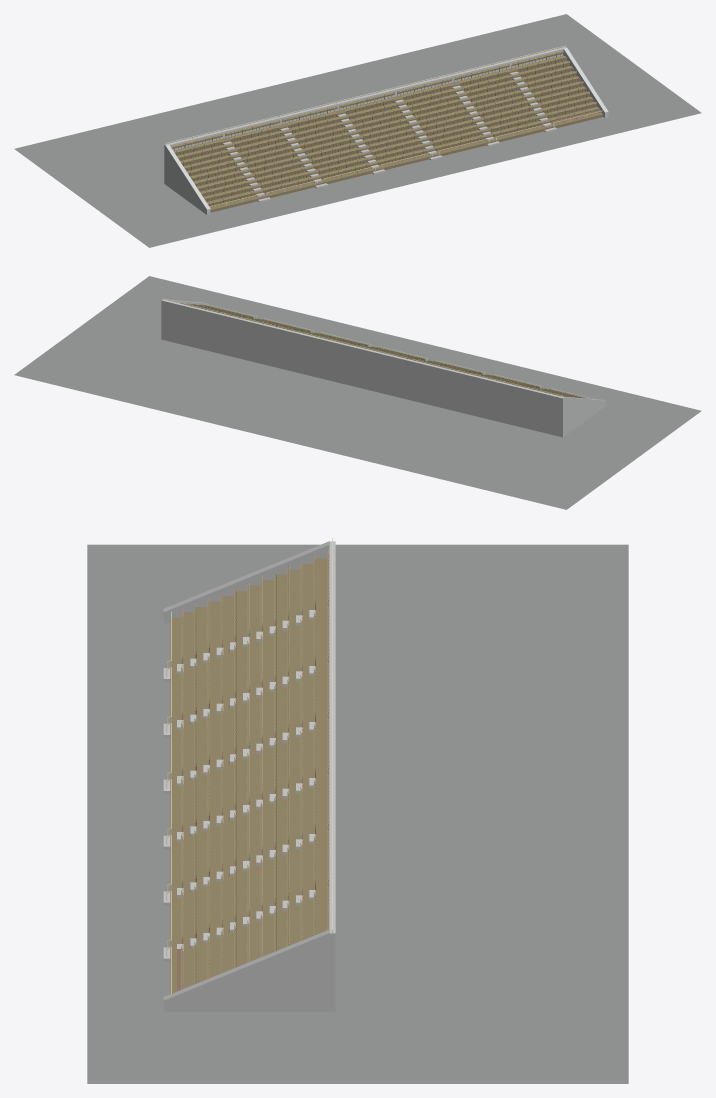
File: Grandstand.fbx
The picture shows the model from 3 angles, top to bottom: view 1: azimuth 30°, elevation 25°; view 2: azimuth 150°, elevation 25°; view 3: azimuth 270°, elevation 25°; orthographic projection. The views are drawn at different scales.
Parts seen in each view (by area): view 1: Ground, Rows, Bucket Seats, Steps, Stand_Back._Left, Stand_Back_ Right, Stand SIde_Left, Top SIde_Right., Top Rails, Top side_Left, Front Rail; view 2: Ground, Stand_Back._Left, Stand_Back_ Right, Bucket Seats, Stand SIde_Left, Top Rails, Front Rail; view 3: Ground, Rows, Bucket Seats, Stand SIde_Right, Steps, Top side_Left, Top SIde_Right., Stand_Back_ Right, Stand_Back._Left.
Boxes of the visible parts, x1=… form: Ground: x1=14, y1=14, x2=701, y2=247; Rows: x1=173, y1=55, x2=603, y2=212; Bucket Seats: x1=171, y1=50, x2=598, y2=206; Steps: x1=222, y1=71, x2=551, y2=196; Stand_Back._Left: x1=164, y1=88, x2=395, y2=184; Stand_Back_ Right: x1=394, y1=46, x2=566, y2=96; Stand SIde_Left: x1=165, y1=150, x2=205, y2=213; Top SIde_Right.: x1=563, y1=48, x2=606, y2=113; Top Rails: x1=165, y1=45, x2=565, y2=144; Top side_Left: x1=165, y1=145, x2=208, y2=210; Front Rail: x1=209, y1=110, x2=602, y2=206; Ground: x1=14, y1=276, x2=701, y2=509; Stand_Back._Left: x1=333, y1=341, x2=564, y2=437; Stand_Back_ Right: x1=161, y1=299, x2=334, y2=381; Bucket Seats: x1=180, y1=303, x2=587, y2=398; Stand SIde_Left: x1=564, y1=401, x2=604, y2=435; Top Rails: x1=163, y1=298, x2=563, y2=397; Front Rail: x1=206, y1=304, x2=595, y2=399; Ground: x1=87, y1=544, x2=628, y2=1083; Rows: x1=170, y1=558, x2=328, y2=993; Bucket Seats: x1=181, y1=550, x2=328, y2=989; Stand SIde_Right: x1=170, y1=941, x2=328, y2=1011; Steps: x1=177, y1=610, x2=315, y2=953; Top side_Left: x1=170, y1=541, x2=328, y2=617; Top SIde_Right.: x1=170, y1=930, x2=328, y2=1005; Stand_Back_ Right: x1=329, y1=765, x2=335, y2=1011; Stand_Back._Left: x1=329, y1=541, x2=335, y2=765.
Bounding box in the file's own units: 9648 × 682 × 4093.
